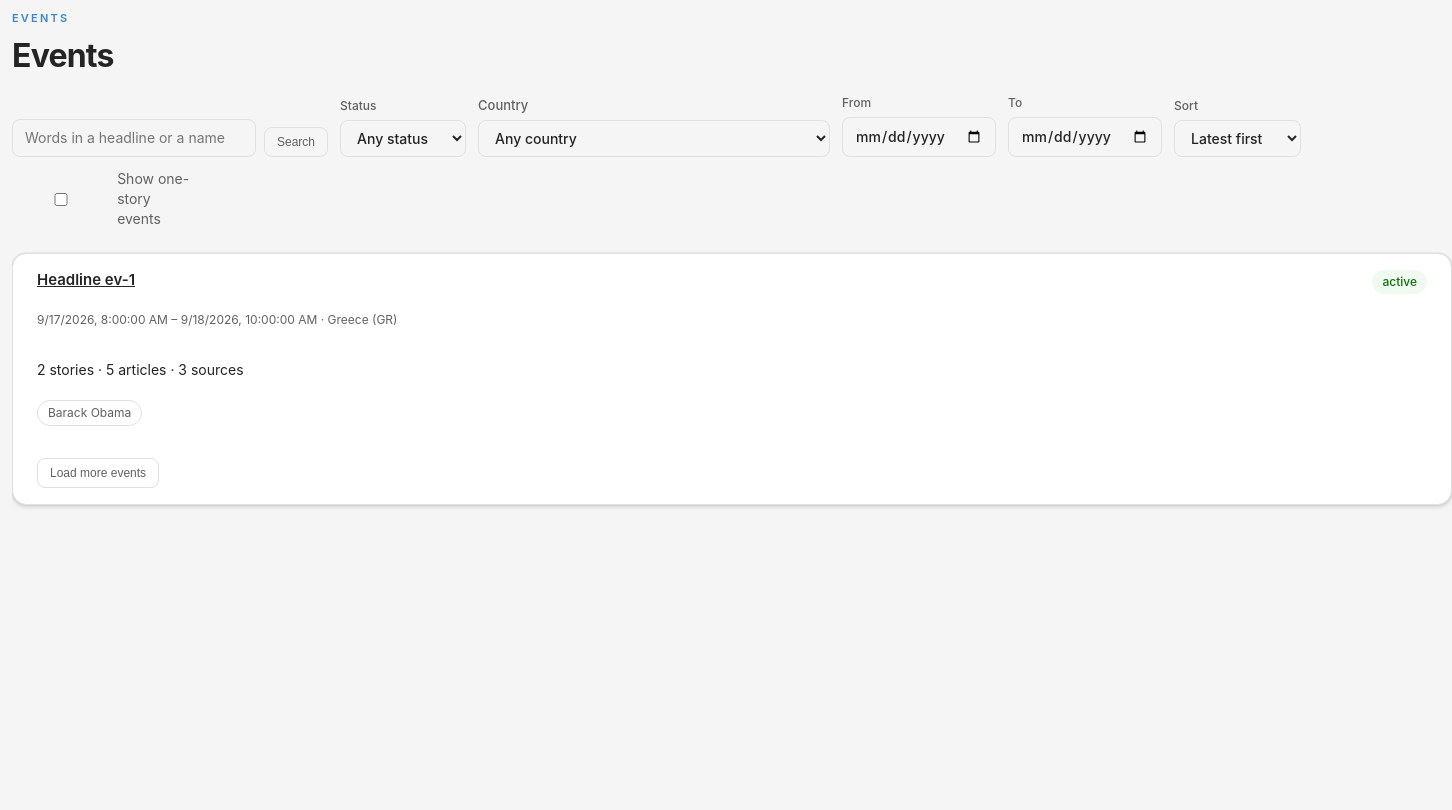
Test case: loads more events with the cursor until the last page
Click the button "Load more events". click: [98, 473]
box: [37,458,159,488]
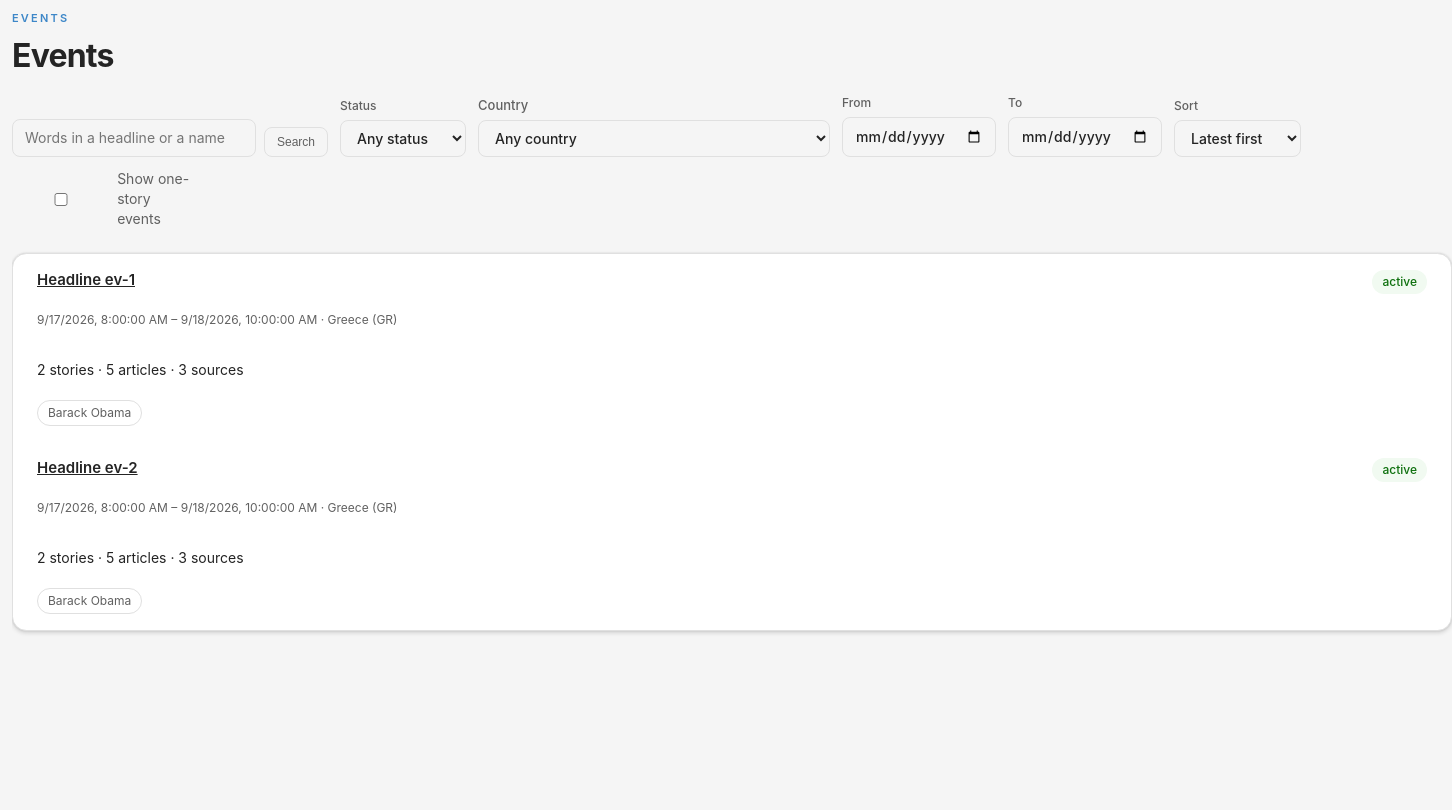
expect the link "Headline ev-1" is shown: met, box [37,270,135,289]
expect the link "Headline ev-2" is shown: met, box [37,458,138,477]
expect the button "Load more events" is gone: met
